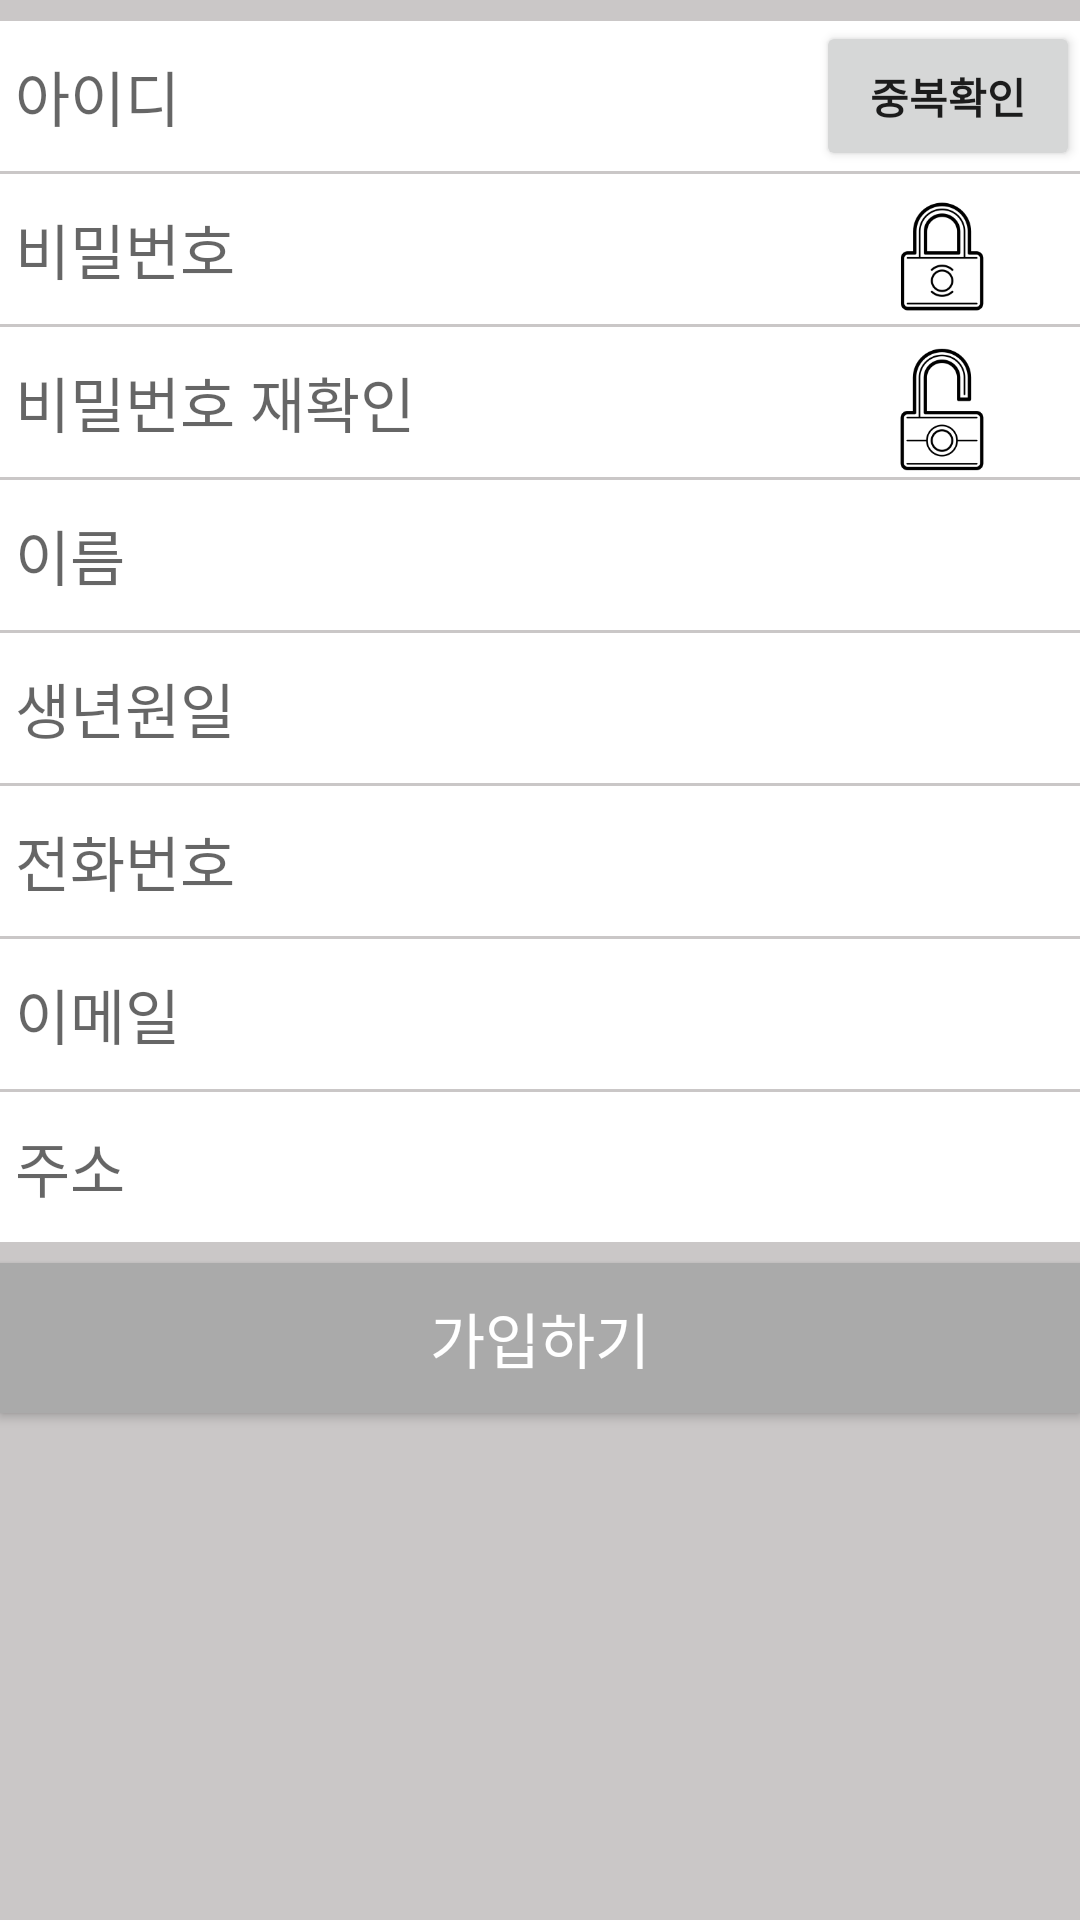

Where to tap for icons on this 1080x1920 app screen, as (x=x, y=y):
lock: (x=942, y=256)
onlock: (x=942, y=409)
